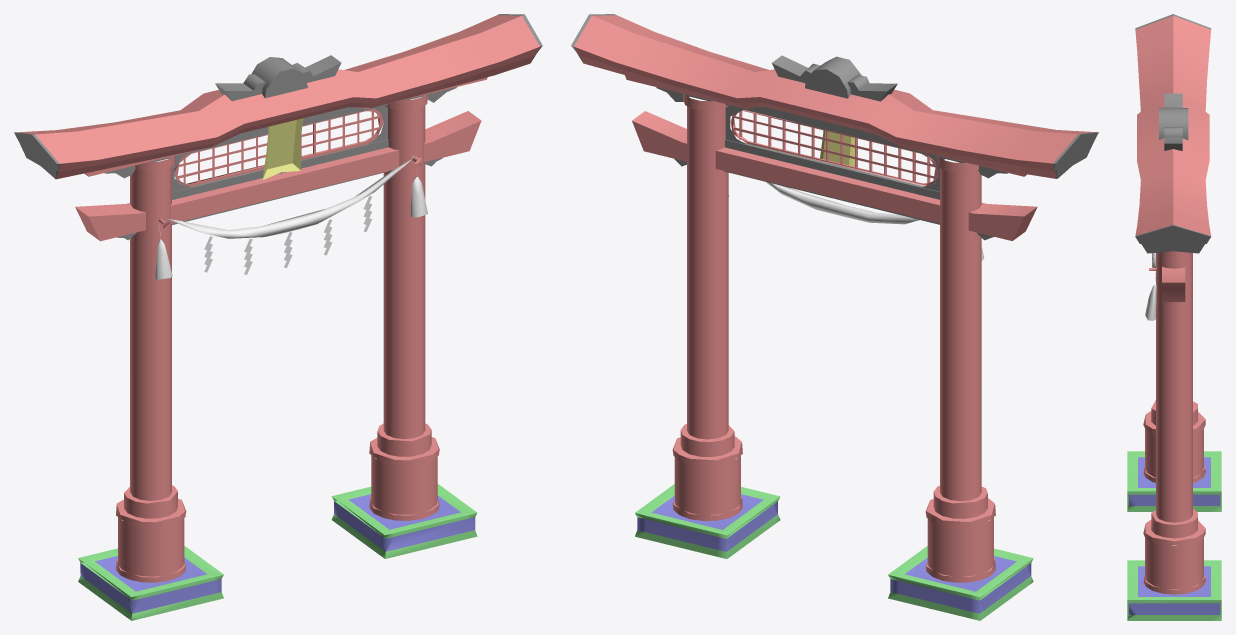
Rendered from SM_ENV_LKNVLD_Torii_Moon_Lod3.gltf.
3 views of the same model, side by side, from view 1: azimuth 30°, elevation 25°; view 2: azimuth 150°, elevation 25°; view 3: azimuth 270°, elevation 25° (orthographic). The views are drawn at different scales.
Visible parts, largest first — view 1: SM_ENV_LKNVLD_Torii_Moon_Lod3; view 2: SM_ENV_LKNVLD_Torii_Moon_Lod3; view 3: SM_ENV_LKNVLD_Torii_Moon_Lod3.
Part boxes in pixels (<box>): SM_ENV_LKNVLD_Torii_Moon_Lod3: <box>14,14,542,620</box>; SM_ENV_LKNVLD_Torii_Moon_Lod3: <box>571,14,1098,620</box>; SM_ENV_LKNVLD_Torii_Moon_Lod3: <box>1127,14,1221,620</box>.
Size of the model in its own units: 13.61 by 13.11 by 2.56.
